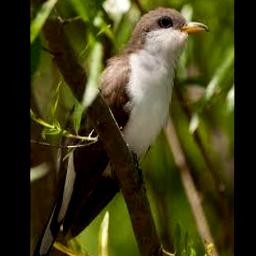Cuckoo: (30, 6, 210, 256)
